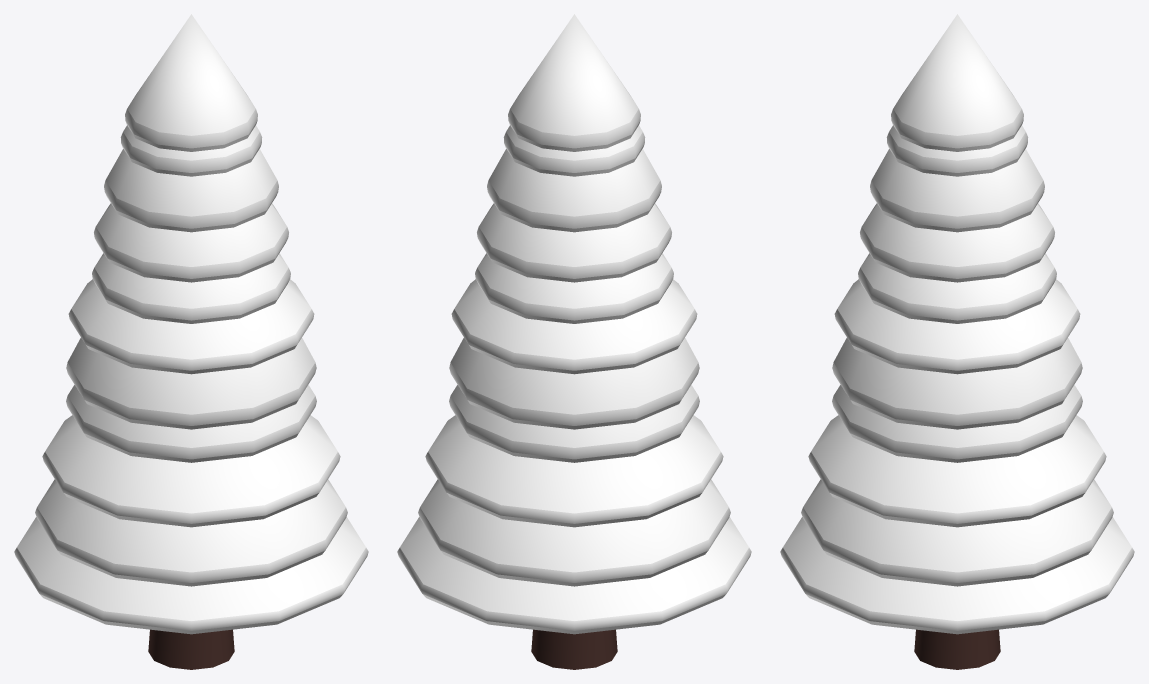
Rendered from Pine Tree.fbx.
The picture shows the model from 3 angles, left to right: view 1: azimuth 30°, elevation 25°; view 2: azimuth 150°, elevation 25°; view 3: azimuth 270°, elevation 25°; orthographic projection.
Parts seen in each view (by area): view 1: Cylinder; view 2: Cylinder; view 3: Cylinder.
Part boxes in pixels (<box>): Cylinder: <box>14,14,368,669</box>; Cylinder: <box>397,14,751,669</box>; Cylinder: <box>780,14,1134,669</box>.
Size of the model in its own units: 214 by 425 by 214.
